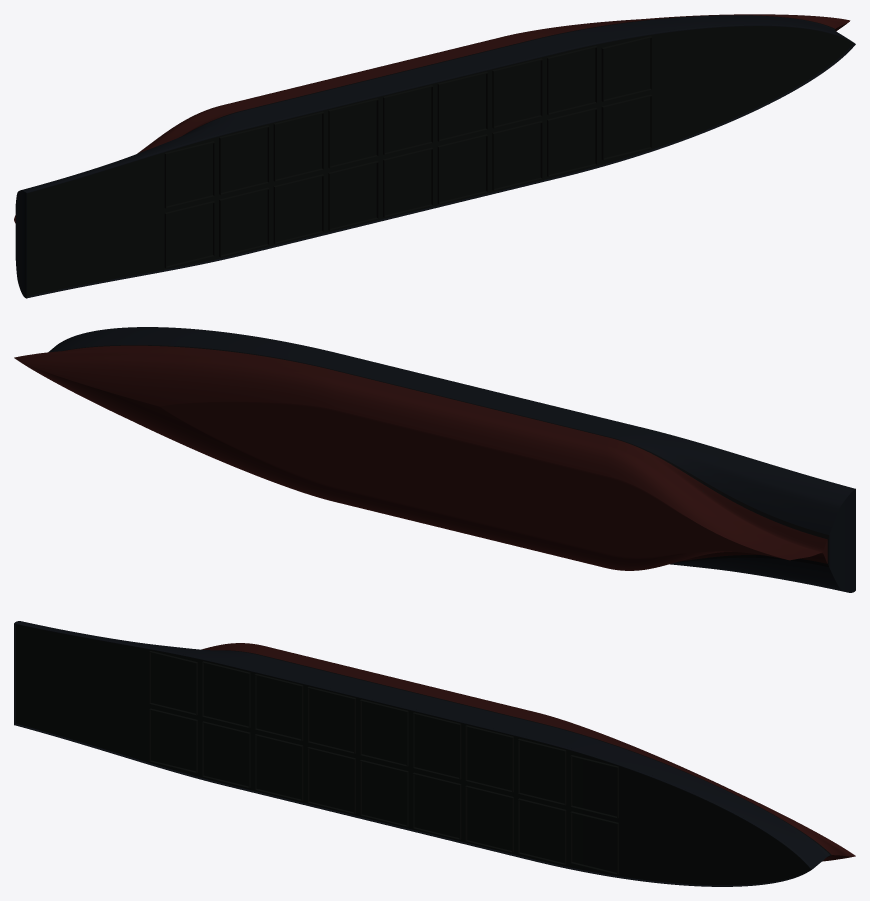
The model's file is Emma_Maersk_hull_1-100_m.obj.
3 views of the same model, one above another, from view 1: azimuth 30°, elevation 25°; view 2: azimuth 150°, elevation 25°; view 3: azimuth 330°, elevation 25° (orthographic). The views are drawn at different scales.
Parts seen in each view (by area): view 1: EmmaMaersk_Hull; view 2: EmmaMaersk_Hull; view 3: EmmaMaersk_Hull.
Part boxes in pixels (x1,y1,x2,y2): EmmaMaersk_Hull: (14,14,855,298); EmmaMaersk_Hull: (14,327,855,592); EmmaMaersk_Hull: (14,621,855,886).
Bounding box in the file's own units: 3.98 × 0.564 × 0.3259.
